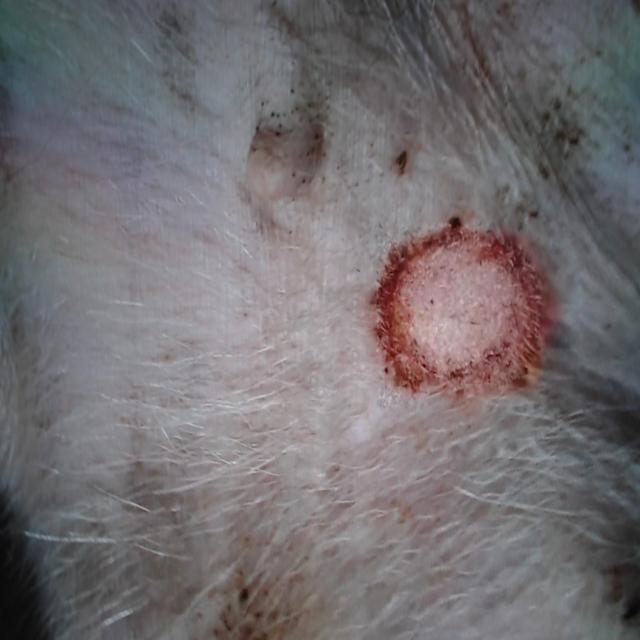ringworm: (363, 182, 565, 423)
